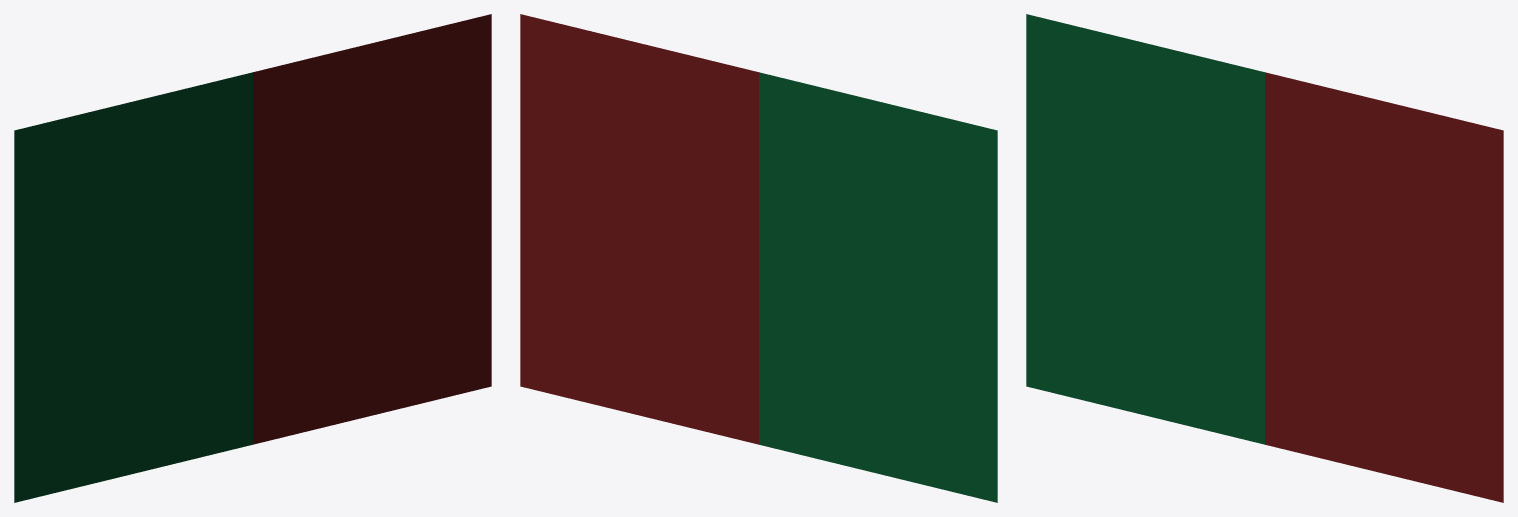
3 views of the same model, side by side, from view 1: azimuth 30°, elevation 25°; view 2: azimuth 150°, elevation 25°; view 3: azimuth 330°, elevation 25° (orthographic).
Parts seen in each view (by area): view 1: Joint_0_Object_0, Joint_0_Object_1; view 2: Joint_0_Object_0, Joint_0_Object_1; view 3: Joint_0_Object_0, Joint_0_Object_1.
Boxes of the visible parts, <box> form: Joint_0_Object_0: <box>14,72,252,502</box>; Joint_0_Object_1: <box>253,14,491,444</box>; Joint_0_Object_0: <box>759,72,997,502</box>; Joint_0_Object_1: <box>520,14,758,444</box>; Joint_0_Object_0: <box>1026,14,1264,444</box>; Joint_0_Object_1: <box>1265,72,1503,502</box>.
Size of the model in its own units: 2942 by 2192 by 0.
